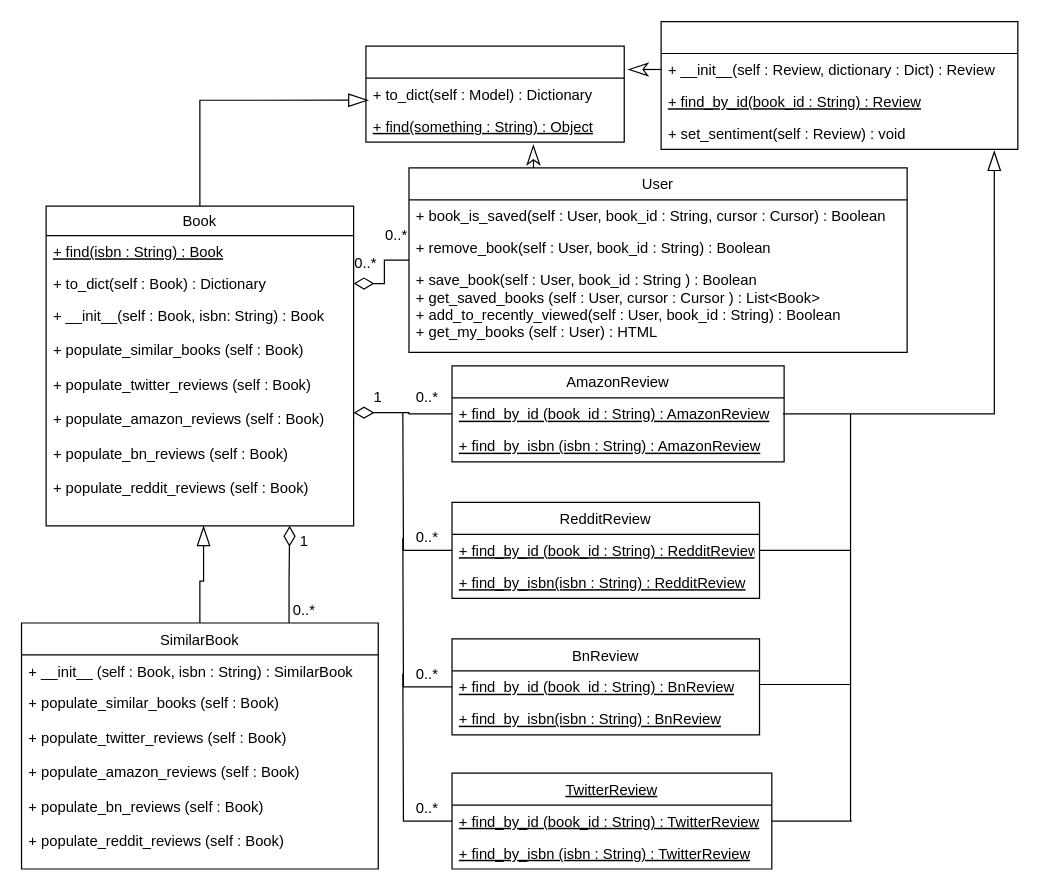
Some shapes in this 1039 by 894 pixel diagram are drawn without their labels. The box of each missing label's shape, as (x1, y1, x2, y2) in pixels:
Model {abstract}: (365, 45, 624, 142)
Review {abstract}: (660, 20, 1018, 149)
